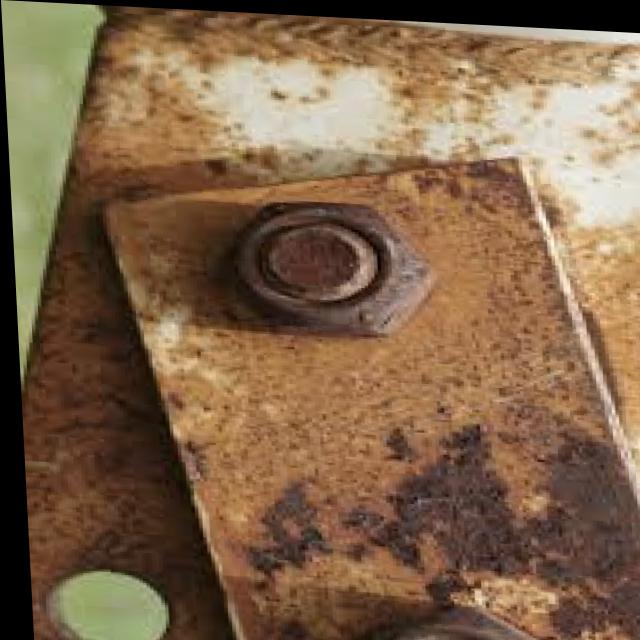Rusty bolt: (230, 198, 439, 339), (357, 600, 565, 640)
